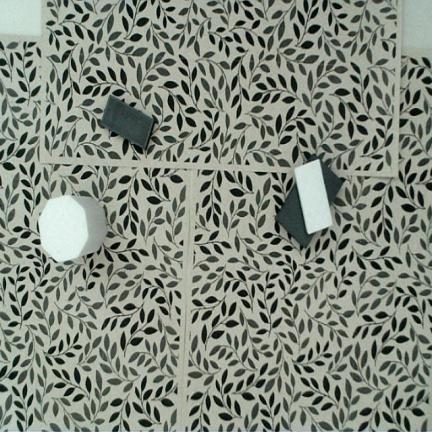Paralelepipedo: (274, 154, 343, 249), (102, 94, 155, 151), (294, 158, 334, 233)
Prisma_hexagonal: (38, 195, 109, 262)
